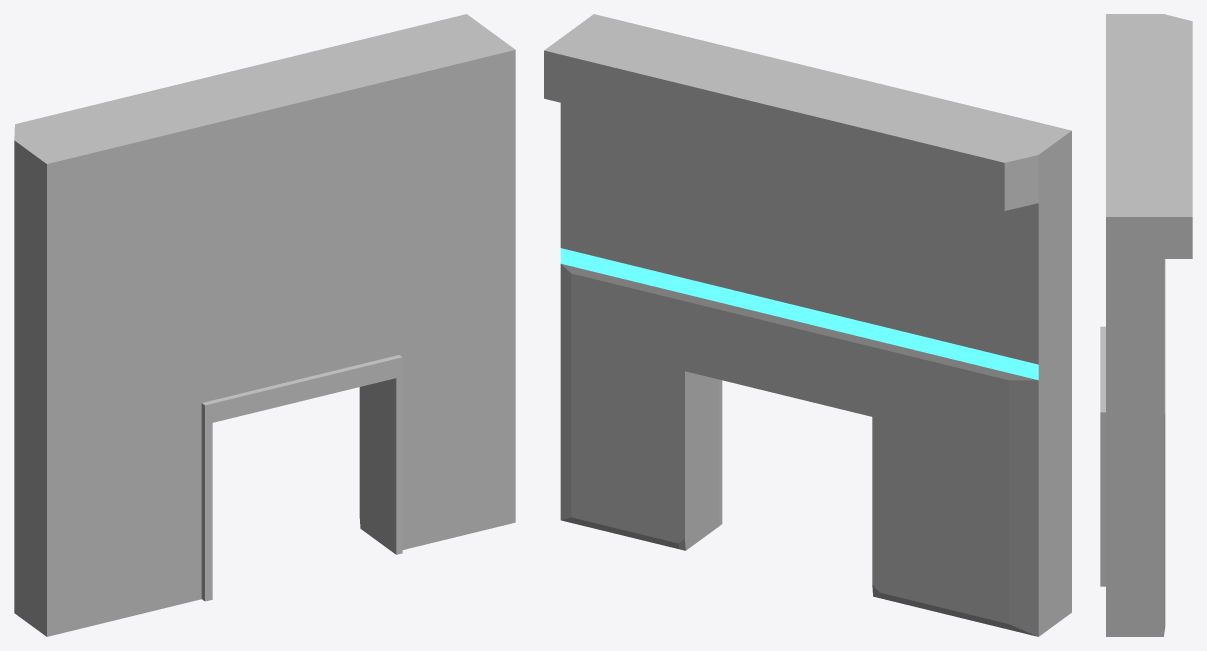
Rendered from Safe Room Exit Door.fbx.
3 renders of one model, left to right at view 1: azimuth 30°, elevation 25°; view 2: azimuth 150°, elevation 25°; view 3: azimuth 270°, elevation 25°, orthographic. The views are drawn at different scales.
Parts seen in each view (by area): view 1: Cube.012; view 2: Cube.012; view 3: Cube.012.
Boxes of the visible parts, left/top/right/bottom form: Cube.012: left=14, top=14, right=515, bottom=636; Cube.012: left=544, top=14, right=1071, bottom=636; Cube.012: left=1100, top=14, right=1192, bottom=636.
Size of the model in its own units: 830 by 800 by 160.
